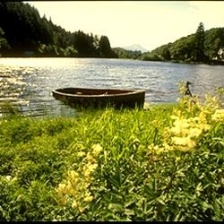neutral: (3, 5, 224, 220)
